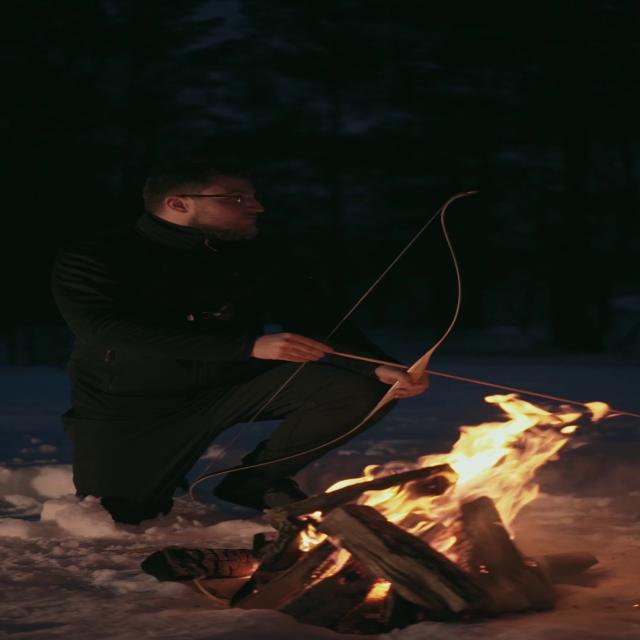Fire: (308, 388, 612, 578)
